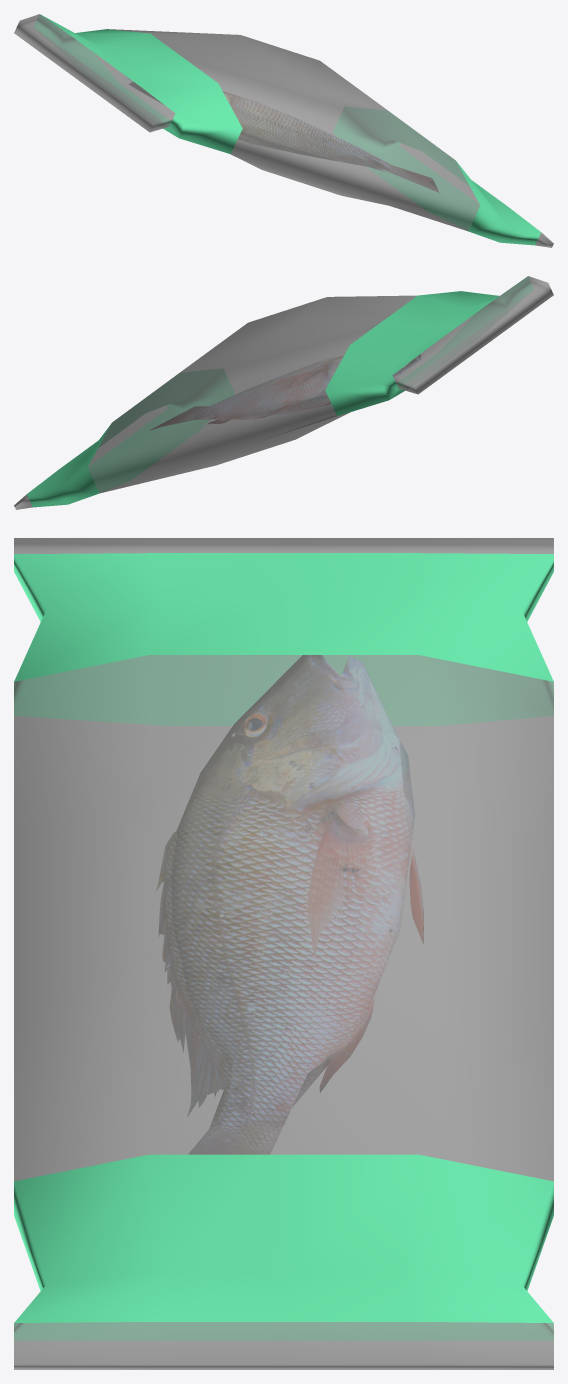
Rendered from fish packet.fbx.
3 renders of one model, top to bottom at view 1: azimuth 30°, elevation 25°; view 2: azimuth 150°, elevation 25°; view 3: azimuth 270°, elevation 25°, orthographic. The views are drawn at different scales.
Parts seen in each view (by area): view 1: packet2, fish; view 2: packet2, fish; view 3: packet2, fish.
Boxes of the visible parts, bbox=[...] form: packet2: bbox=[14, 14, 553, 247]; fish: bbox=[126, 76, 438, 192]; packet2: bbox=[14, 276, 553, 509]; fish: bbox=[150, 354, 420, 430]; packet2: bbox=[14, 538, 553, 1369]; fish: bbox=[156, 655, 423, 1154].
Size of the model in its own units: 57.06 by 30.63 by 33.19.
